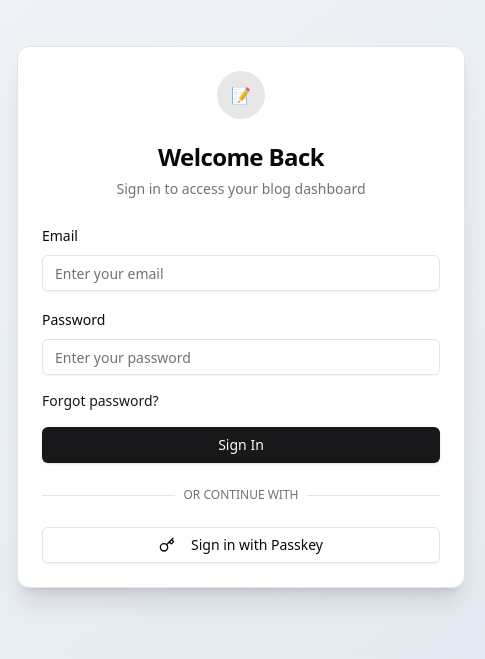
Test: AdminPage › Login form › handles login failure with access denied
Type "subscriber@example.com" into the field labelled "Email".
click(241, 273); type("subscriber@example.com")  # box x1=42 y1=255 x2=440 y2=291
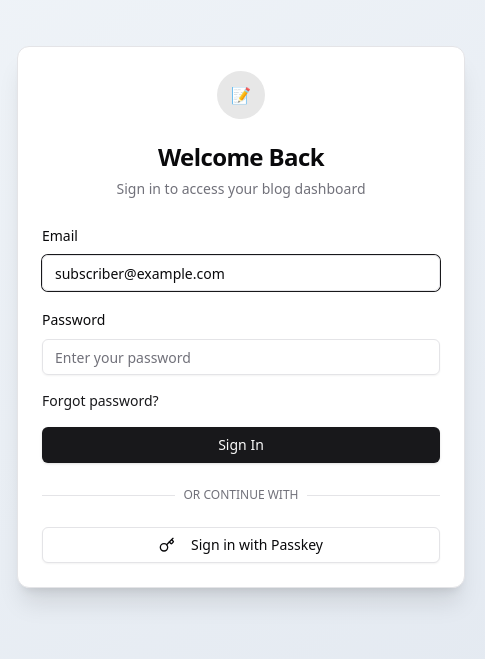
Type "password" into the password field labelled "Password".
click(241, 357); type("password")  # box x1=42 y1=339 x2=440 y2=375
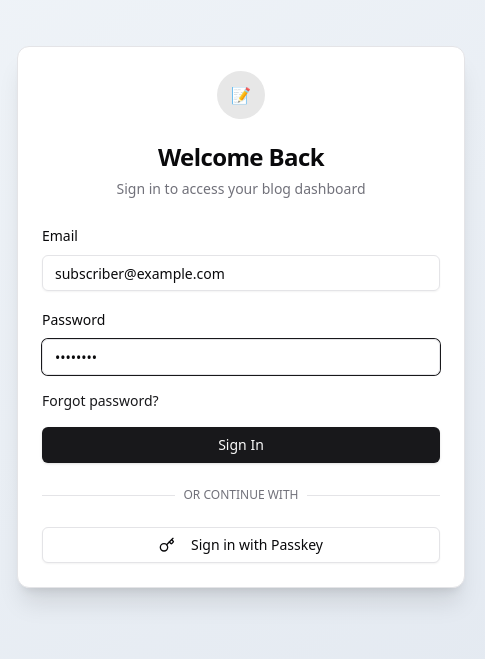
Click the button "Sign In".
click(241, 445)  # box x1=42 y1=427 x2=440 y2=463
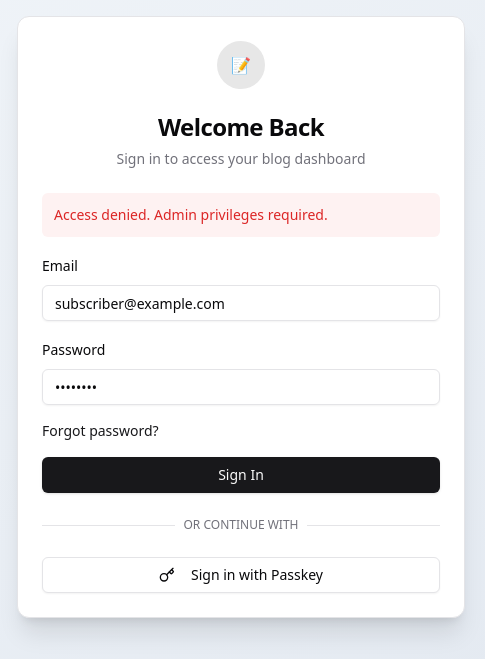
Expected: the text "Access denied. Admin privileges required." is shown, x1=42 y1=193 x2=440 y2=237
